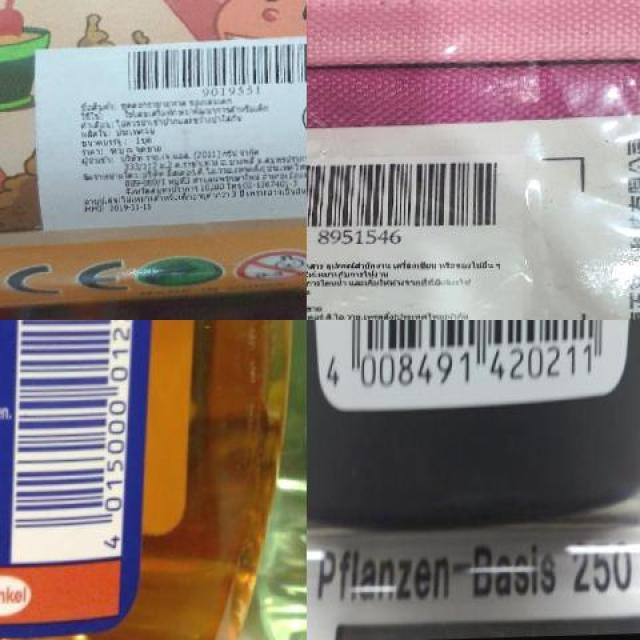Barcode: (12, 320, 137, 565), (308, 320, 620, 411), (306, 149, 518, 252), (117, 40, 307, 101)
